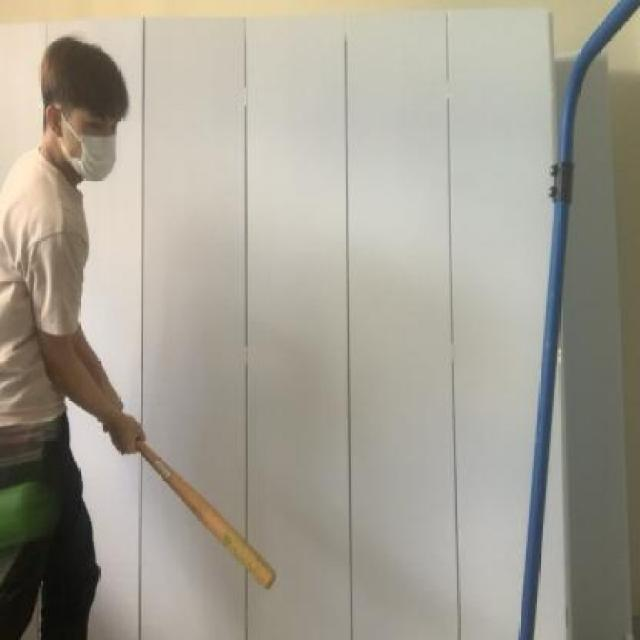baseball: (0, 473, 69, 541)
